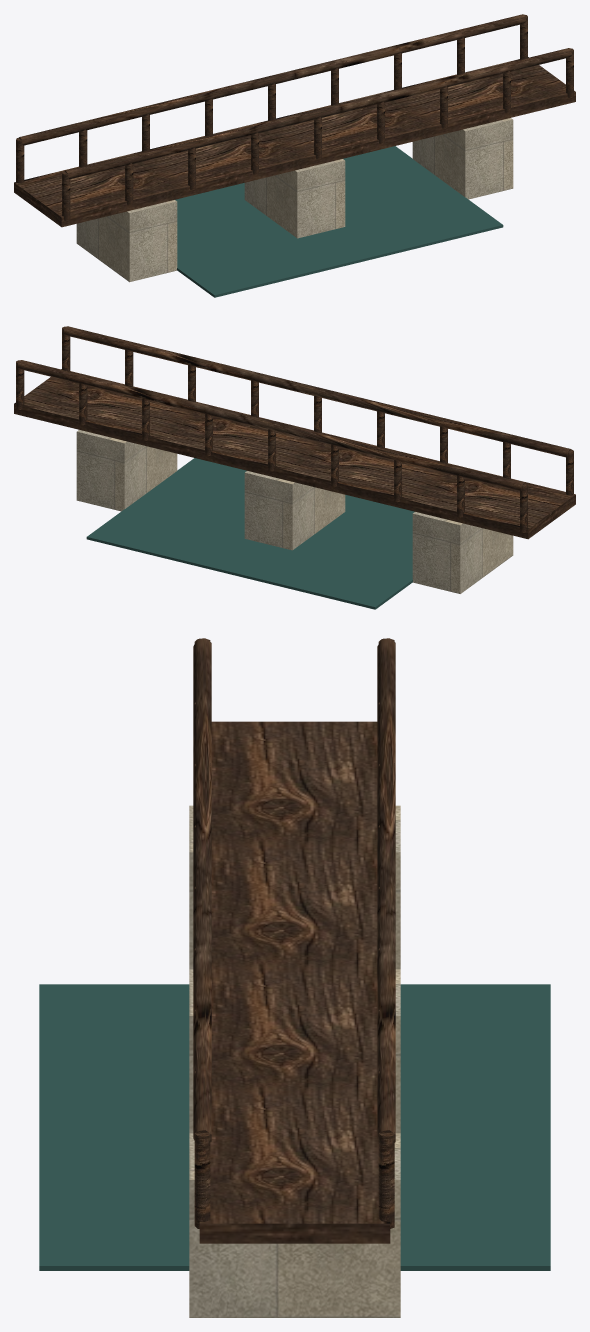
The model's file is bridgeSpan.glb.
3 renders of one model, top to bottom at view 1: azimuth 30°, elevation 25°; view 2: azimuth 150°, elevation 25°; view 3: azimuth 270°, elevation 25°, orthographic. The views are drawn at different scales.
Parts seen in each view (by area): view 1: part_2, part_0, part_1; view 2: part_2, part_0, part_1; view 3: part_2, part_0, part_1.
Part boxes in pixels (left/top/right/bottom): part_2: left=14, top=14, right=575, bottom=227; part_0: left=175, top=146, right=503, bottom=297; part_1: left=76, top=118, right=513, bottom=282; part_2: left=14, top=326, right=575, bottom=539; part_0: left=86, top=458, right=414, bottom=609; part_1: left=76, top=430, right=513, bottom=593; part_2: left=193, top=638, right=395, bottom=1243; part_0: left=39, top=984, right=550, bottom=1270; part_1: left=189, top=805, right=400, bottom=1317.
Size of the model in its own units: 4.3 by 0.9841 by 1.85.
3 materials, 2 textured.
